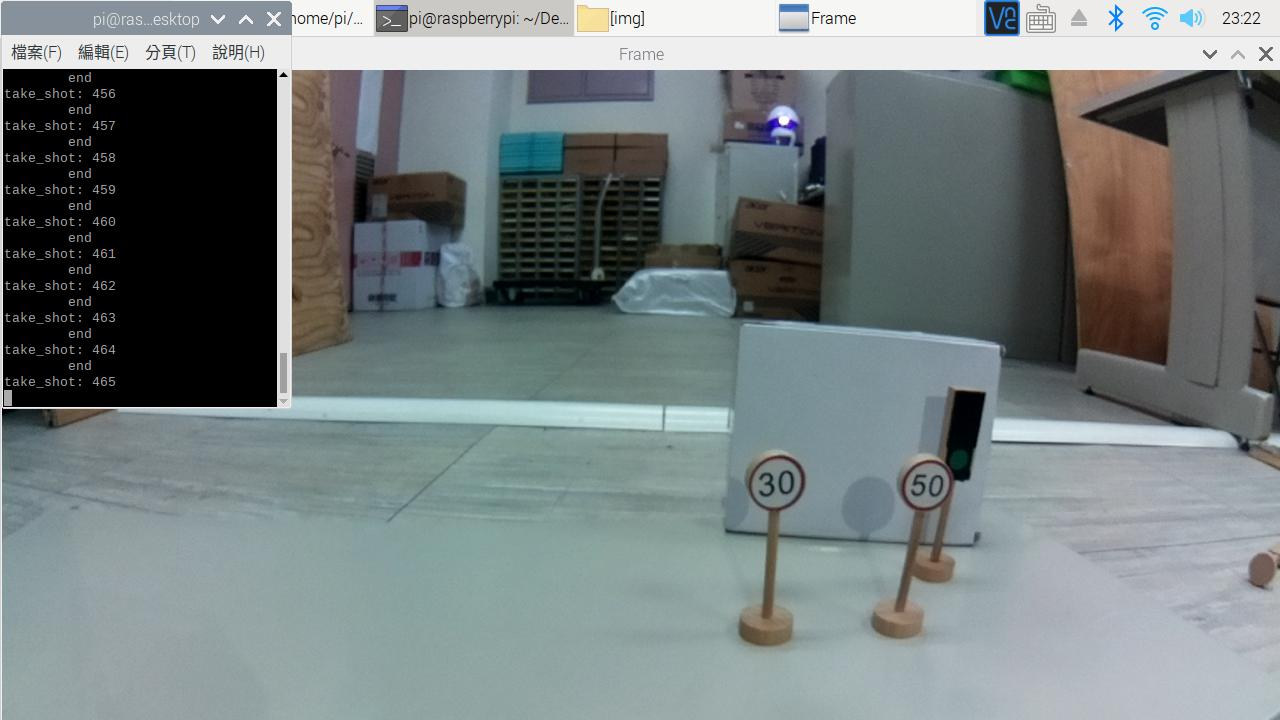Green: (944, 386, 987, 477)
Speed30: (746, 447, 808, 513)
Speed50: (896, 465, 951, 514)
